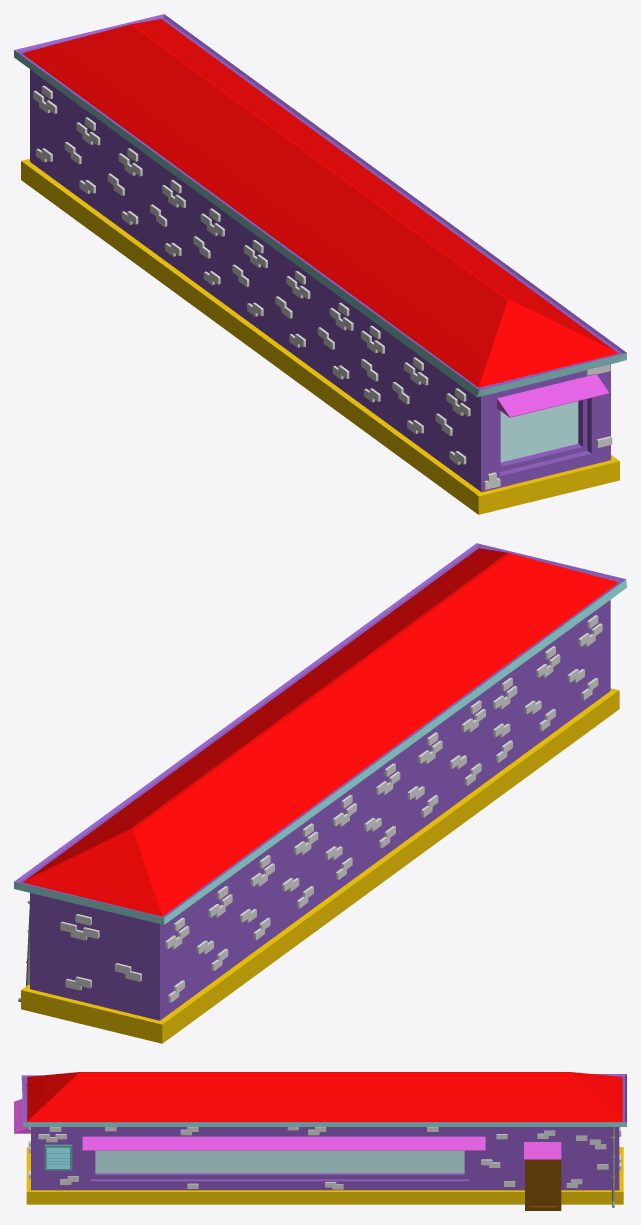
Rendered from Pasport long.fbx.
3 views of the same model, one above another, from view 1: azimuth 30°, elevation 25°; view 2: azimuth 150°, elevation 25°; view 3: azimuth 270°, elevation 25° (orthographic). The views are drawn at different scales.
Visible parts, largest first — view 1: pCube1, polySurface188, polySurface1; view 2: pCube1, polySurface188; view 3: pCube1, polySurface1, polySurface188, pCube2, pCube15, pCylinder2.
Boxes of the visible parts, x1,y1,x2,y2 form: pCube1: (14, 14, 626, 514); polySurface188: (33, 85, 612, 489); polySurface1: (497, 374, 609, 417); pCube1: (14, 543, 626, 1043); polySurface188: (60, 615, 602, 1002); pCube1: (21, 1072, 626, 1204); polySurface1: (14, 1099, 561, 1159); polySurface188: (28, 1127, 621, 1189); pCube2: (525, 1159, 561, 1210); pCube15: (44, 1144, 72, 1170); pCylinder2: (612, 1127, 614, 1207).
Bounding box in the file's own units: 2.06 × 1.92 × 9.47.
